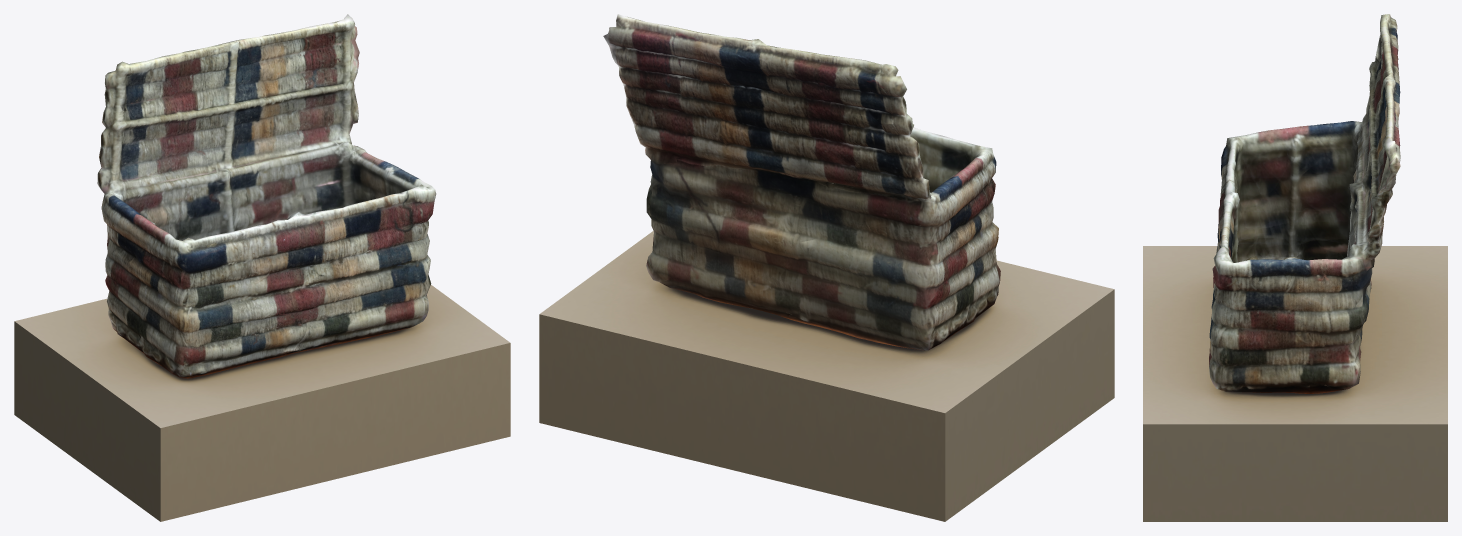
The model's file is canasta.FBX.
3 views of the same model, side by side, from view 1: azimuth 30°, elevation 25°; view 2: azimuth 150°, elevation 25°; view 3: azimuth 270°, elevation 25° (orthographic). The views are drawn at different scales.
Visible parts, largest first — view 1: canasta, Box001; view 2: Box001, canasta; view 3: Box001, canasta.
Boxes of the visible parts, box(x1,y1,x2,y2) form: canasta: box(97, 14, 436, 378); Box001: box(14, 285, 510, 521); Box001: box(539, 231, 1114, 521); canasta: box(603, 14, 1000, 350); Box001: box(1143, 246, 1447, 521); canasta: box(1209, 14, 1400, 393).
Bounding box in the file's own units: 226 × 219 × 164.
